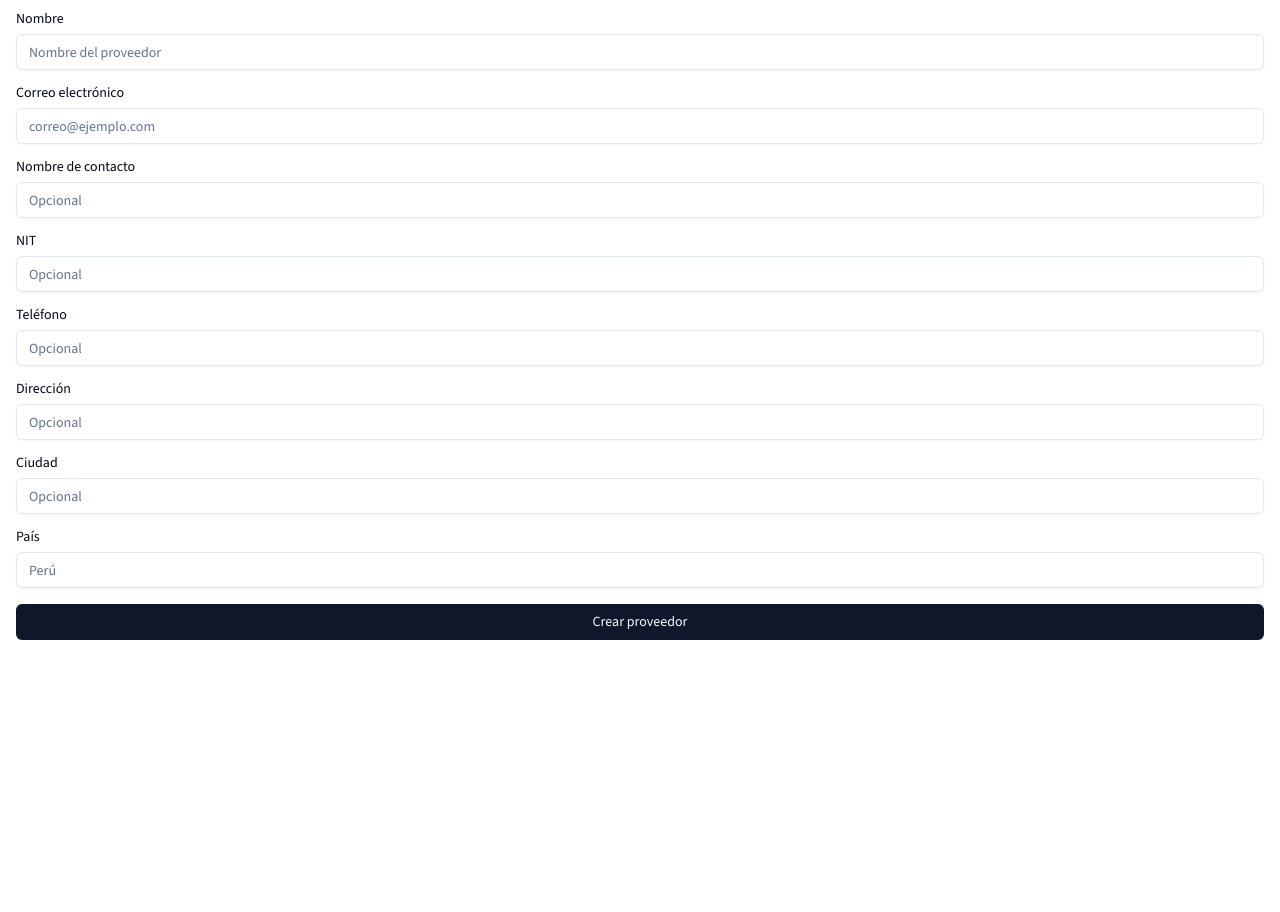
SupplierForm — validation › shows "Correo inválido" when email is empty on submit
Type "My Supplier" into the field with placeholder "Nombre del proveedor" at (640, 52), box [16,34,1264,70]
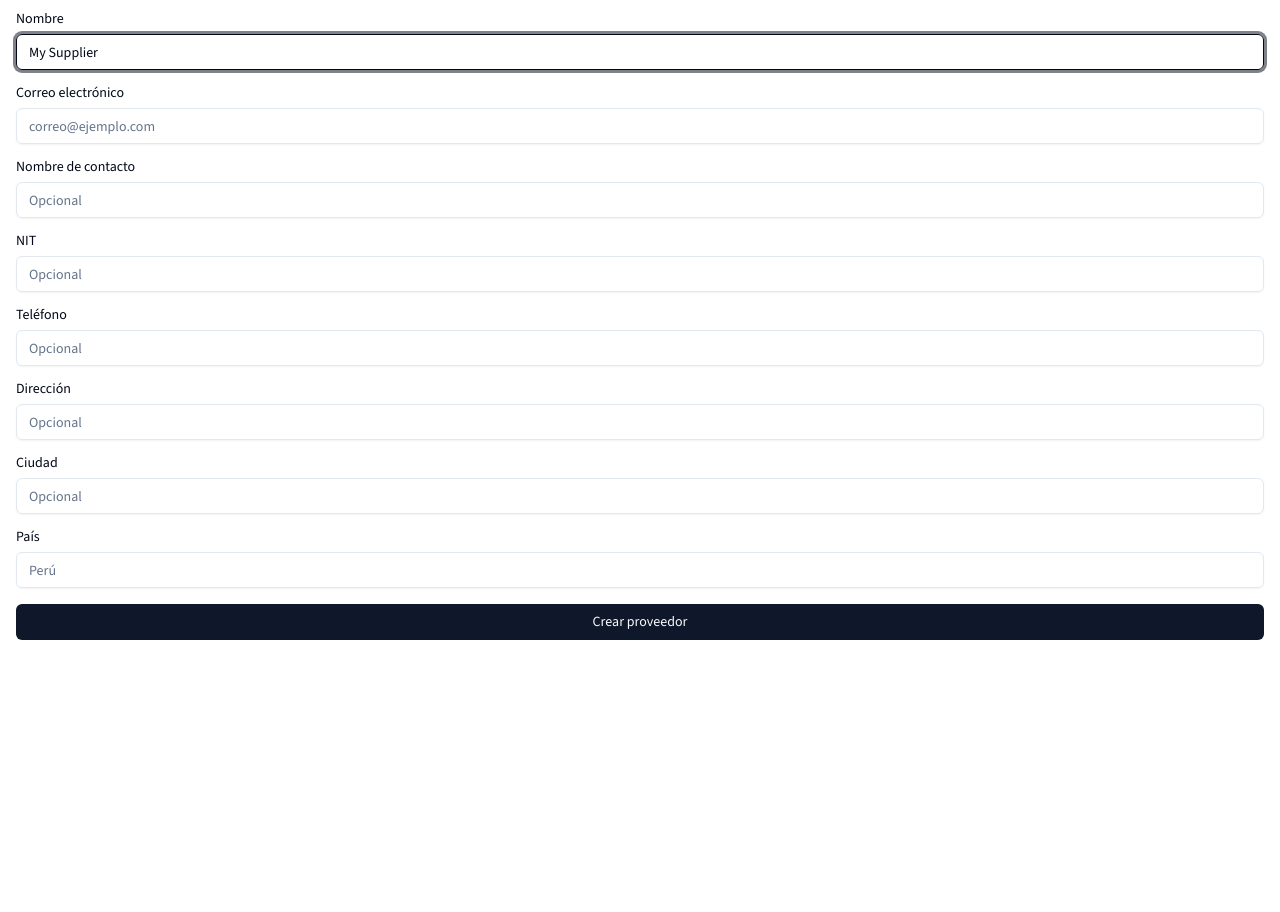
// email field is empty by default — leave it empty
Click the button "Crear proveedor" at (640, 622), box [16,604,1264,640]
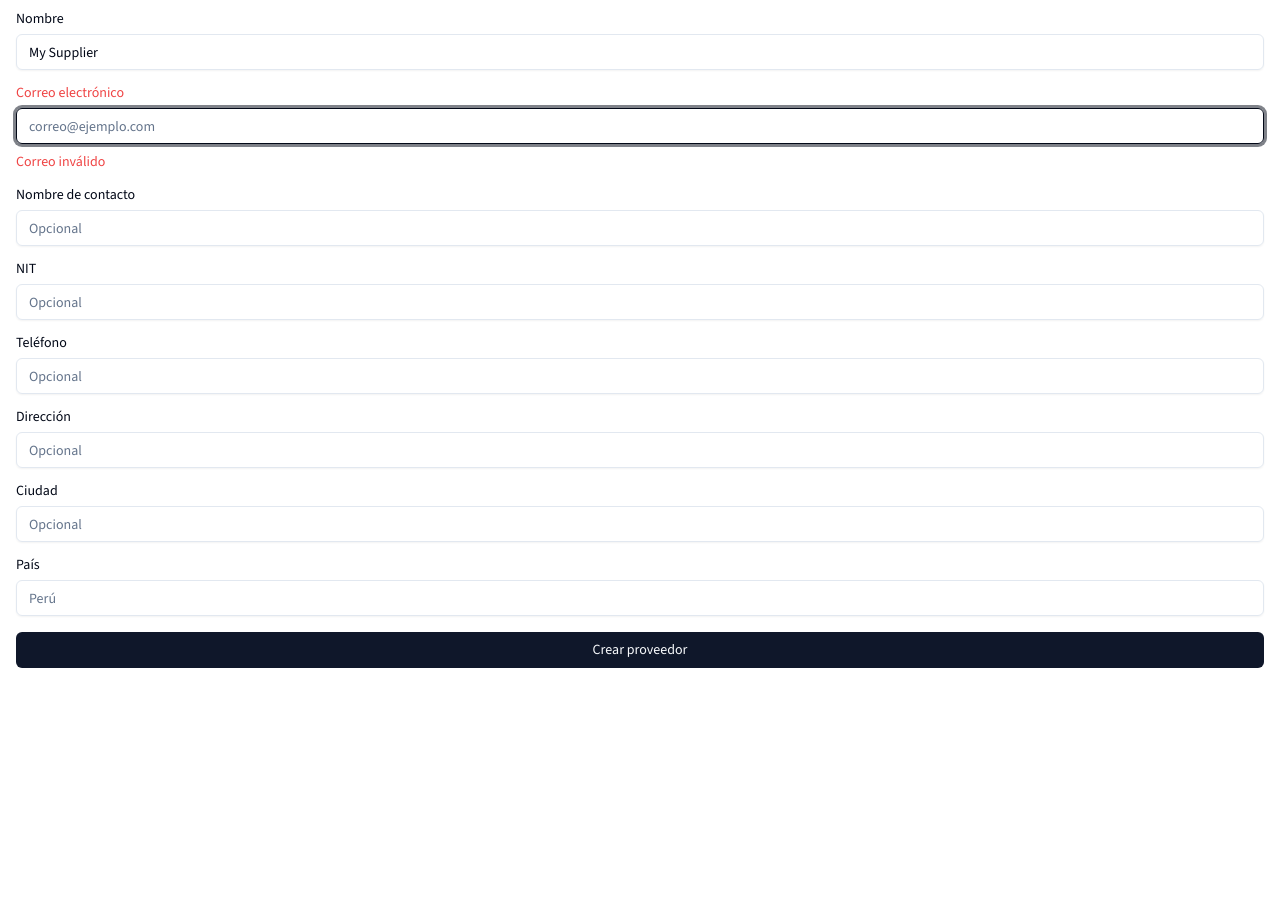
Result: the text "Correo inválido" is shown at [16,152,105,171]
